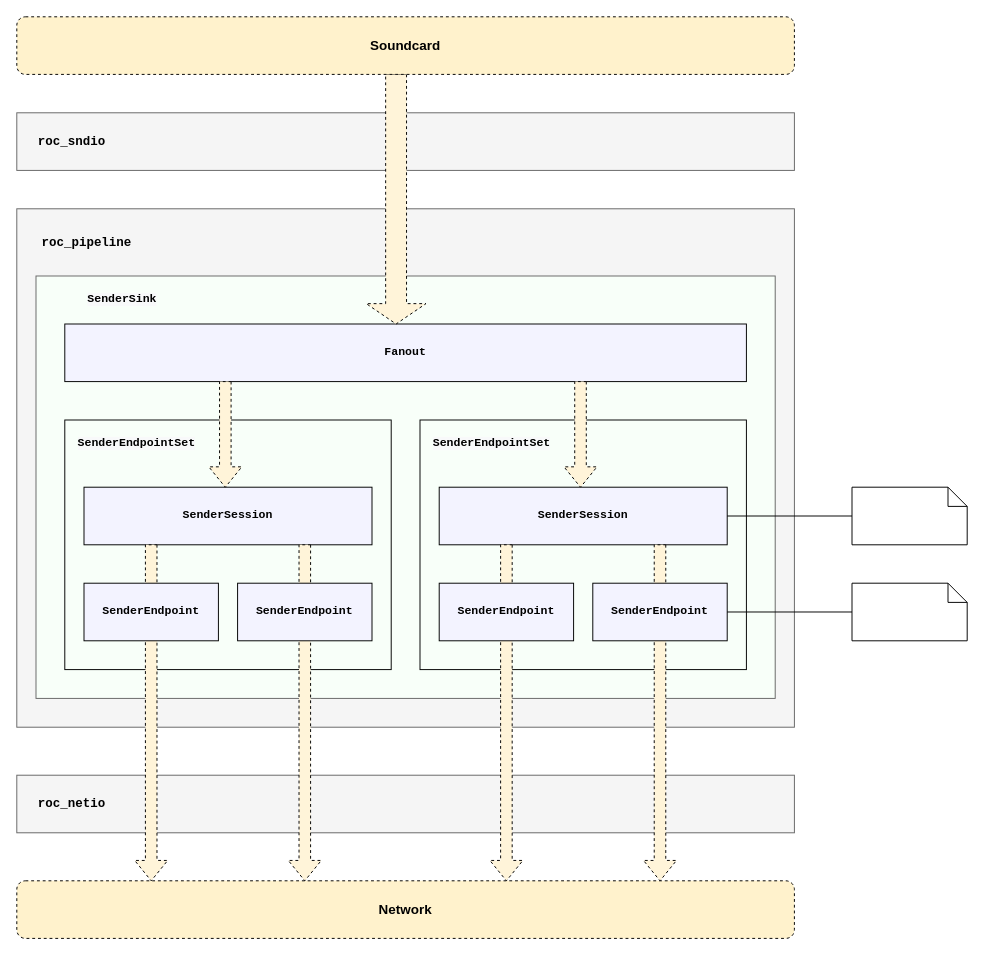
The diagram is 984 pixels wide and 955 high, and some of its shapes have lost their labels. The centre of each missing label's shape, as x and y in pixels:
endpoint sub-pipeline: the point at 909,611
session sub-pipeline: the point at 909,515
